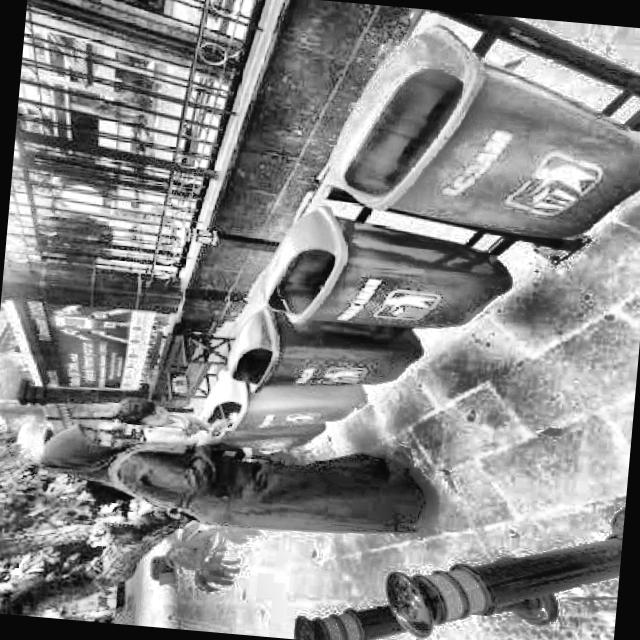Dustbin: (310, 7, 640, 252), (247, 198, 538, 336), (218, 310, 438, 400)
